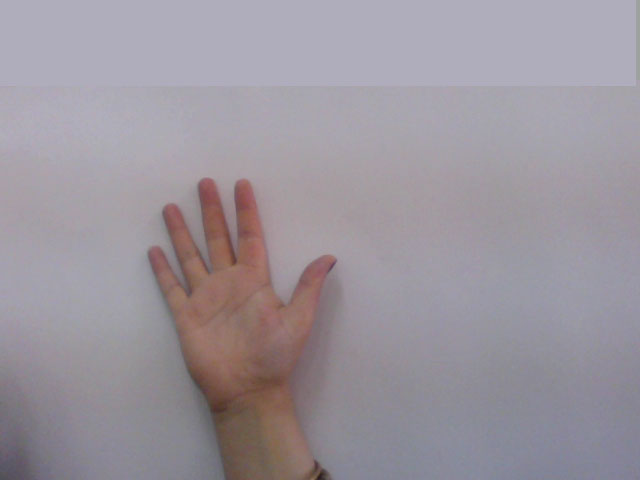hand: (136, 168, 345, 383)
